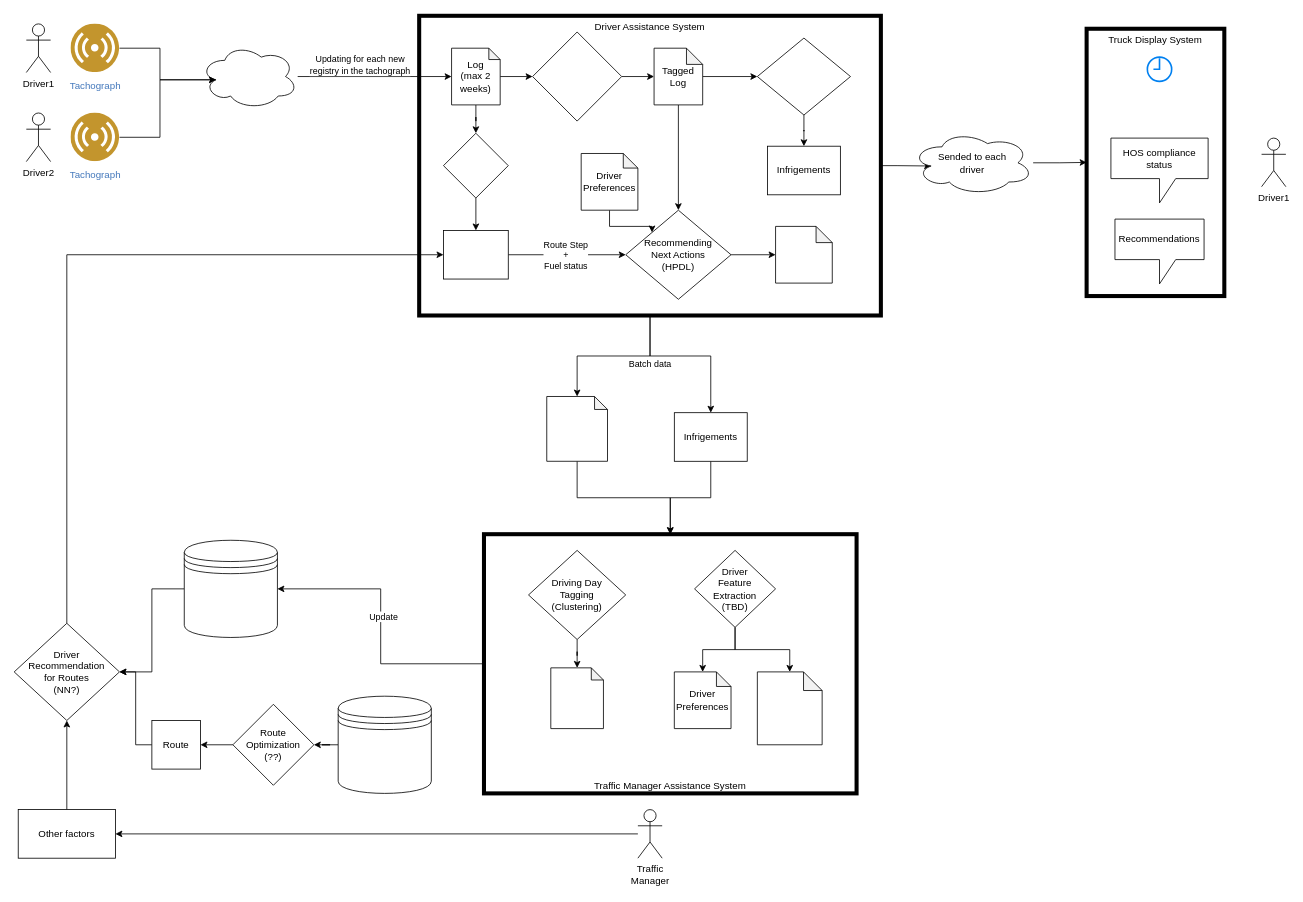
This 1303x902 diagram has some shape labels left out. The centre of each missing label's shape, as x and y in pixels:
Actual Route: the point at 475,254
Check HOS compliance (HPDL): the point at 577,76
Data Streaming (Simulated): the point at 249,76
Deliveries: the point at 384,744
Driver Historical Metrics: the point at 789,708
Drivers: the point at 230,588
Driving Day Metrics: the point at 1159,69
Final Tagged Log (each day): the point at 577,428
Infringement Analysis (TBD): the point at 803,76
Prescriptive Log: the point at 803,254
Tagged Driving Days: the point at 576,698
Update State: the point at 475,165
